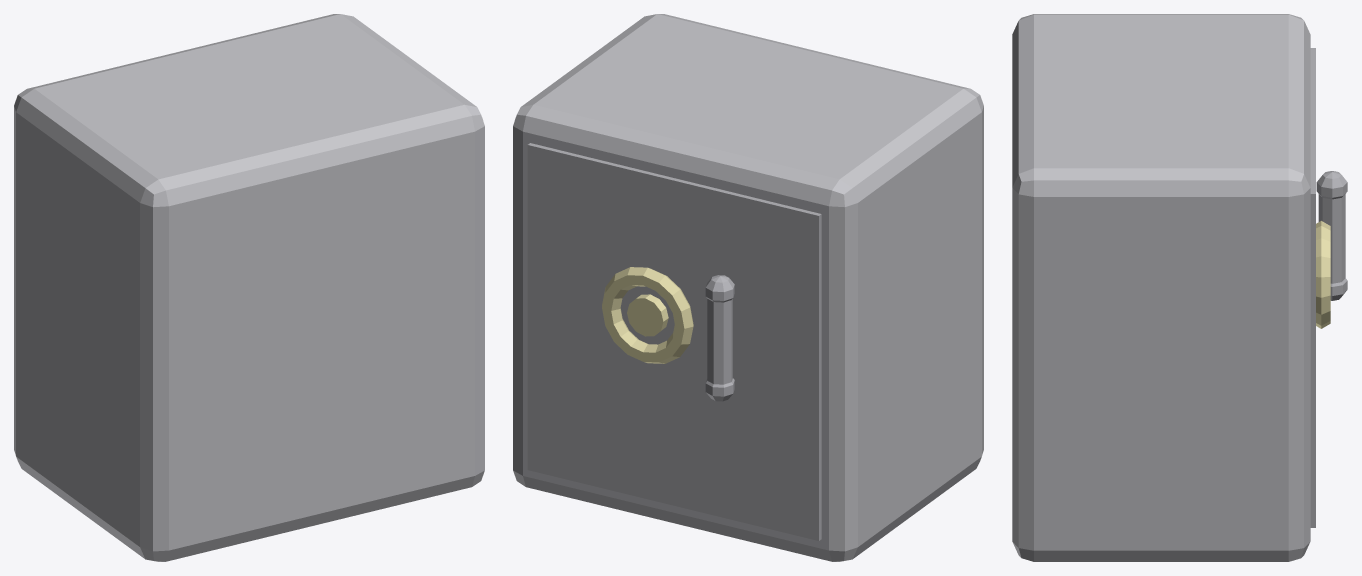
File: Safe.fbx
3 views of the same model, side by side, from view 1: azimuth 30°, elevation 25°; view 2: azimuth 150°, elevation 25°; view 3: azimuth 270°, elevation 25° (orthographic). The views are drawn at different scales.
Parts seen in each view (by area): view 1: Safe; view 2: Safe; view 3: Safe.
Boxes of the visible parts, x1,y1,x2,y2 form: Safe: (14, 14, 484, 561); Safe: (513, 14, 983, 561); Safe: (1012, 14, 1347, 561).
Bounding box in the file's own units: 0.75 × 0.8 × 0.6185.
